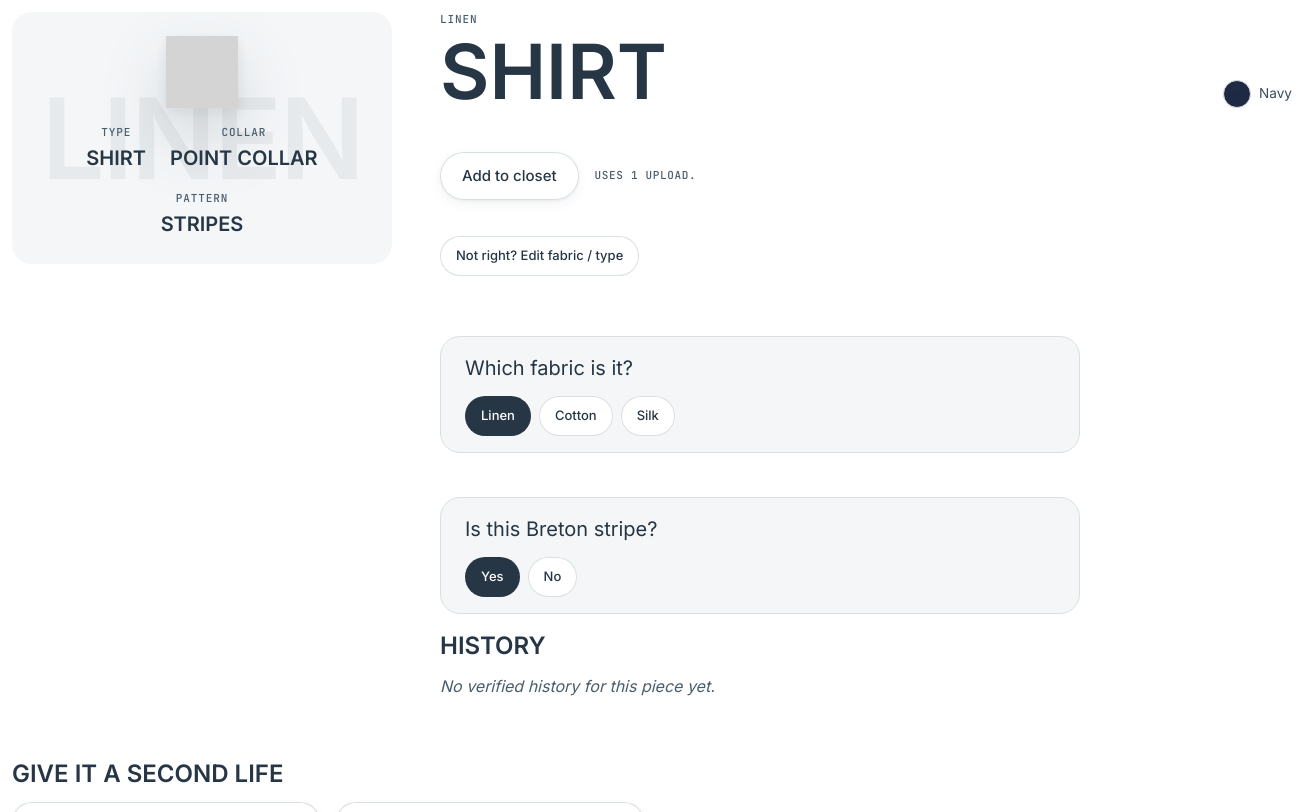
Test: ResultView › confirming a fabric posts a correction and hides the prompt
Click the button "Cotton" at (576, 416), box [539,396,613,436]
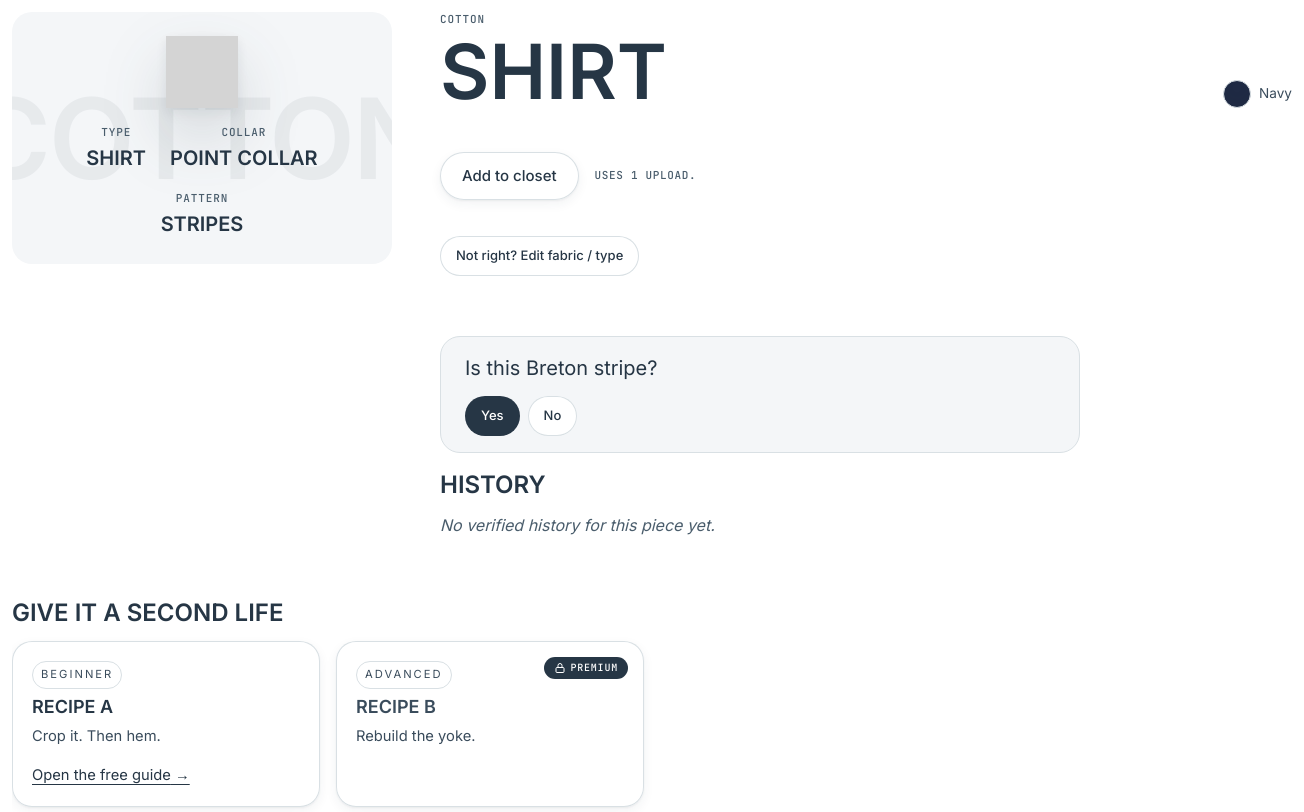
Check: the text "Which fabric is it?" is gone
